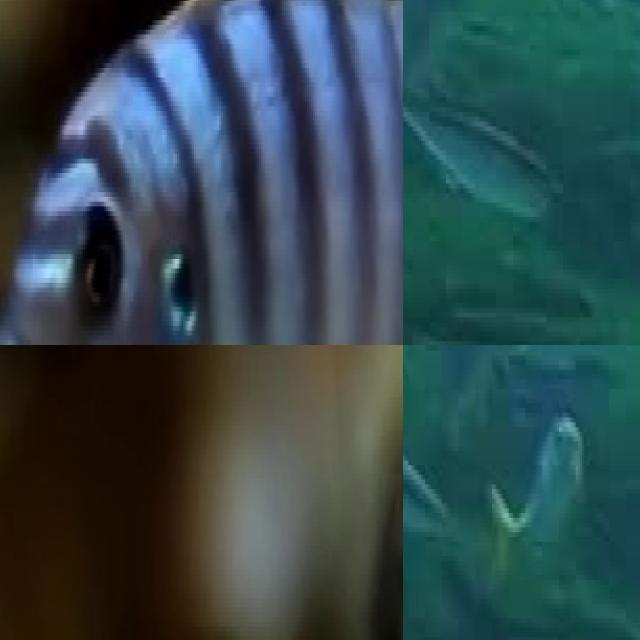fish: (0, 0, 403, 345), (290, 345, 403, 640)
